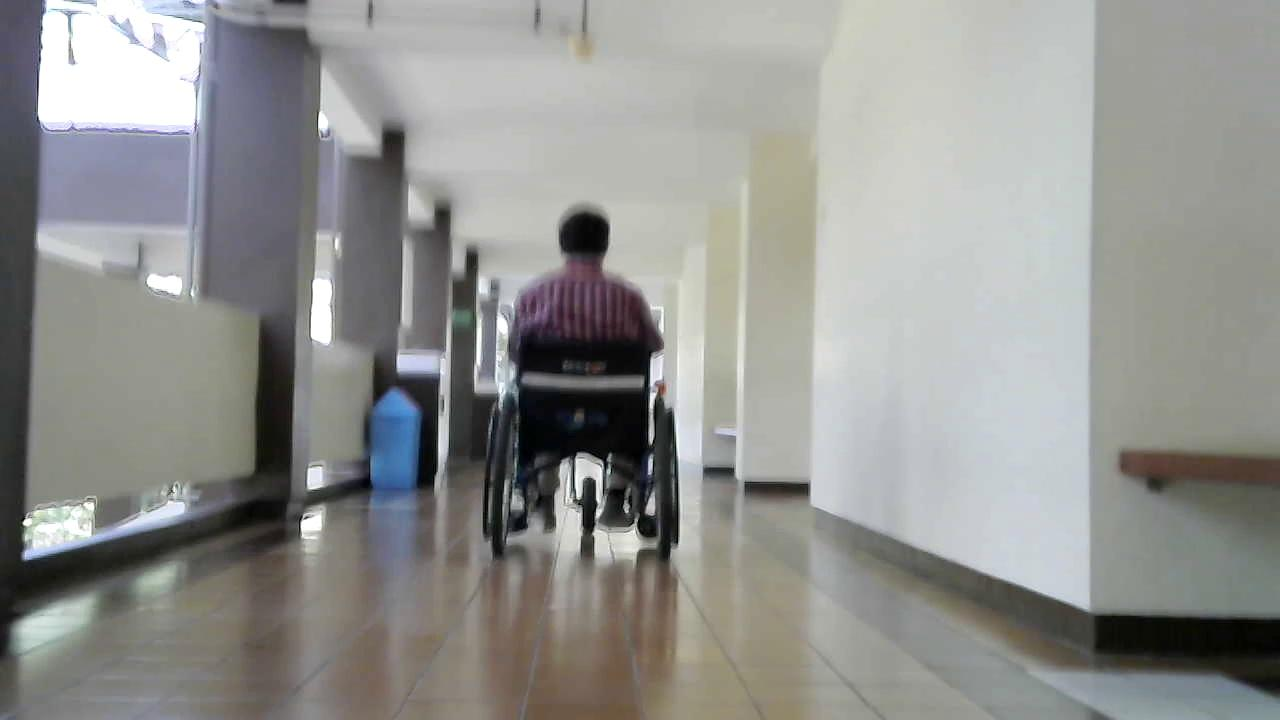person: (495, 204, 666, 551)
wheelchair: (469, 318, 697, 583)
